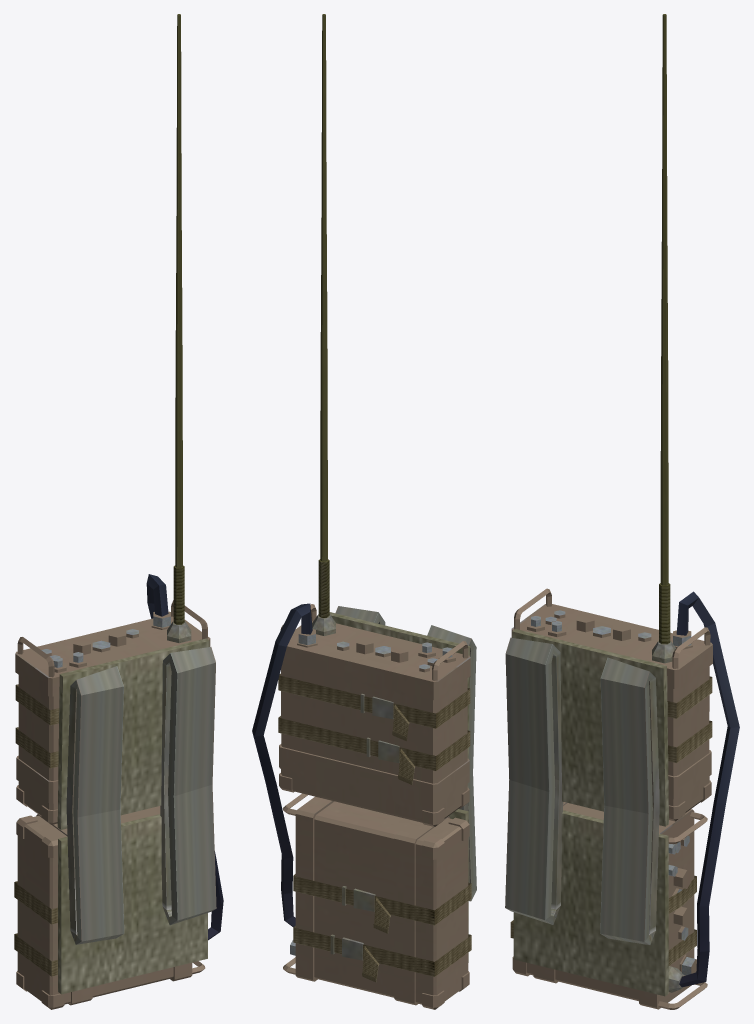
The model's file is Manpack.fbx.
3 renders of one model, left to right at view 1: azimuth 30°, elevation 25°; view 2: azimuth 150°, elevation 25°; view 3: azimuth 330°, elevation 25°, orthographic. The views are drawn at different scales.
Parts seen in each view (by area): view 1: Manpack Radio; view 2: Manpack Radio; view 3: Manpack Radio.
Boxes of the visible parts, x1=… form: Manpack Radio: x1=14, y1=14, x2=223, y2=1009; Manpack Radio: x1=252, y1=14, x2=476, y2=1009; Manpack Radio: x1=505, y1=14, x2=739, y2=1009.
Bounding box in the file's own units: 31.37 × 156 × 20.55.
Materials: 1 (1 with a texture image).
